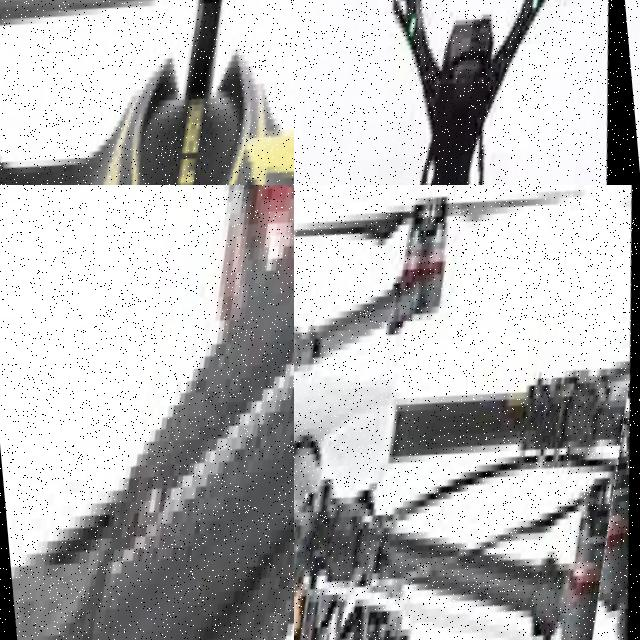0: (294, 0, 640, 185)
drone: (294, 185, 640, 640), (0, 185, 294, 640), (0, 0, 294, 185)
